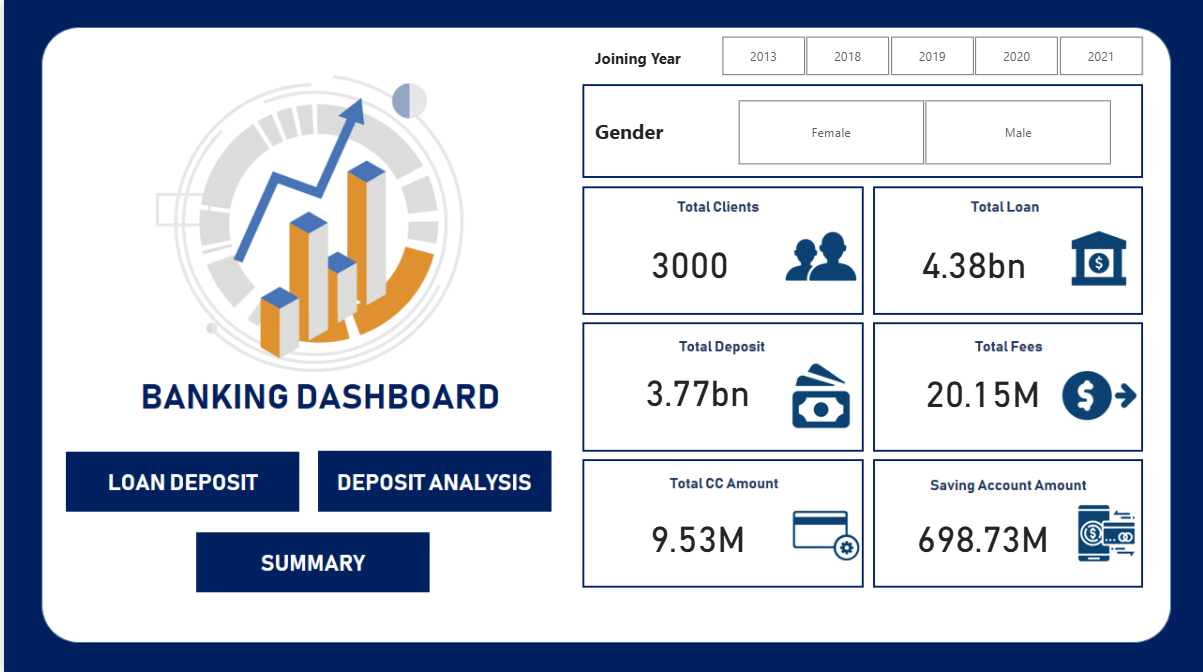

What the dashboard file says about the page in this screenshot:
{"tool":"powerbi","page":{"name":"Home","canvas":[1280,720],"ordinal":0},"visuals":[{"type":"card","fields":{"Values":["CountNonNull(banking_case customer.Name)"]},"box":[640,230,183.3,98.3],"z":0},{"type":"slicer","fields":{"Values":["banking_case customer.GenderId"]},"box":[757.5,100,447.5,82.5],"z":1000},{"type":"textbox","box":[625,120,132.5,45],"z":2000},{"type":"card","fields":{"Values":["banking_case customer.Total Loan"]},"box":[943.3,230,181.7,98.3],"z":3000},{"type":"card","fields":{"Values":["banking_case customer.Total Deposit"]},"box":[640,360,200,112.5],"z":4000},{"type":"slicer","fields":{"Values":["banking_case customer.Year of Joining"]},"box":[740,31.7,498.3,55],"z":5000},{"type":"textbox","box":[625,45,101.7,31.7],"z":6000},{"type":"card","fields":{"Values":["banking_case customer.Total CC Amount"]},"box":[640,515,200,113.3],"z":7000},{"type":"card","fields":{"Values":["banking_case customer.Saving Account Amount"]},"box":[943.3,515,200,113.3],"z":8000},{"type":"card","fields":{"Values":["banking_case customer.Total Fees"]},"box":[943.3,360,200,113.3],"z":9000},{"type":"actionButton","box":[68.3,486.7,246.7,58.3],"z":10000},{"type":"actionButton","box":[331.7,486.7,256.7,58.3],"z":11000},{"type":"actionButton","box":[203.3,571.7,256.7,56.7],"z":12000}]}

Visuals, with their boxes in screenshot pixels (x1, y1, x2, y2), scaled from the page's 1280x720 canvas onto the 1203x672 screenshot:
card - CountNonNull(banking_case customer.Name): bbox=(602, 215, 774, 306)
slicer - banking_case customer.GenderId: bbox=(712, 93, 1133, 170)
textbox: bbox=(587, 112, 712, 154)
card - banking_case customer.Total Loan: bbox=(887, 215, 1057, 306)
card - banking_case customer.Total Deposit: bbox=(602, 336, 789, 441)
slicer - banking_case customer.Year of Joining: bbox=(695, 30, 1164, 81)
textbox: bbox=(587, 42, 683, 72)
card - banking_case customer.Total CC Amount: bbox=(602, 481, 789, 586)
card - banking_case customer.Saving Account Amount: bbox=(887, 481, 1075, 586)
card - banking_case customer.Total Fees: bbox=(887, 336, 1075, 442)
actionButton: bbox=(64, 454, 296, 509)
actionButton: bbox=(312, 454, 553, 509)
actionButton: bbox=(191, 534, 432, 587)
